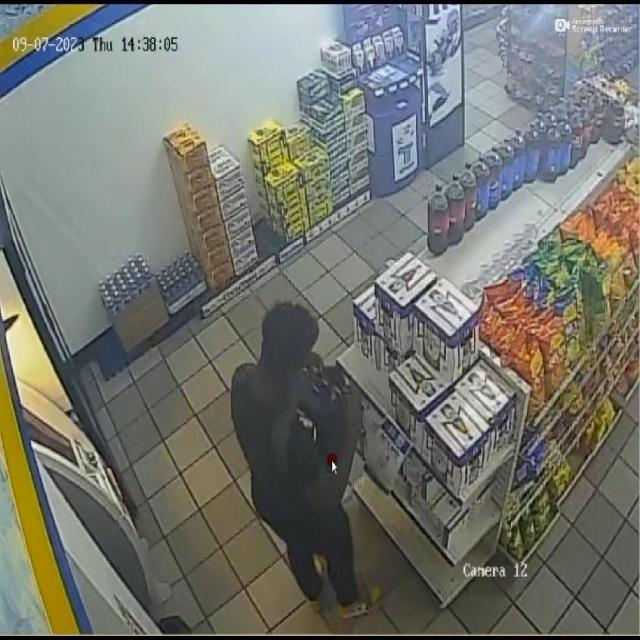Shoplifting: (196, 282, 416, 614)
